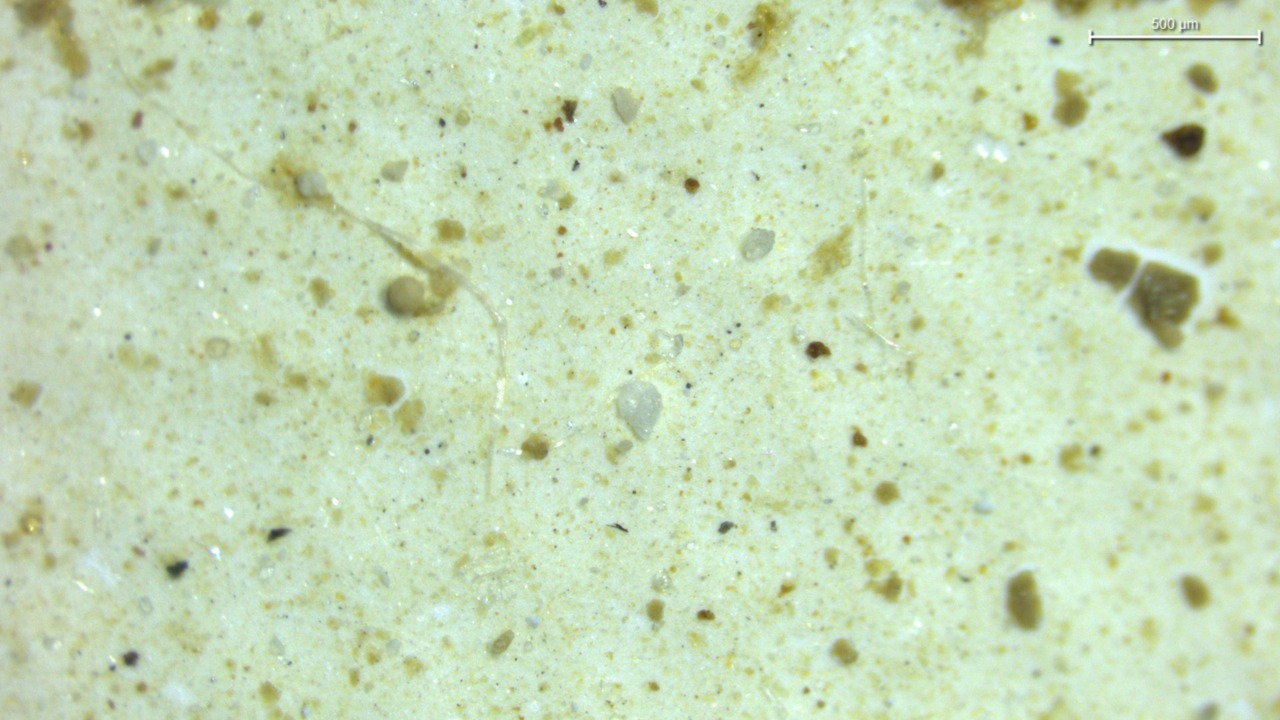microplastic_fragment: (616, 381, 663, 440), (739, 228, 775, 261), (611, 87, 641, 124), (295, 171, 329, 198)
